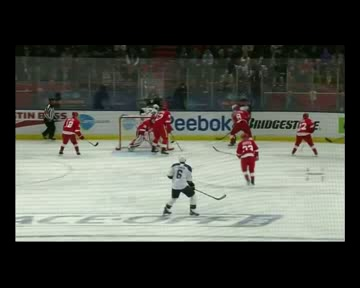normal: (157, 154, 227, 218), (39, 91, 91, 157)
